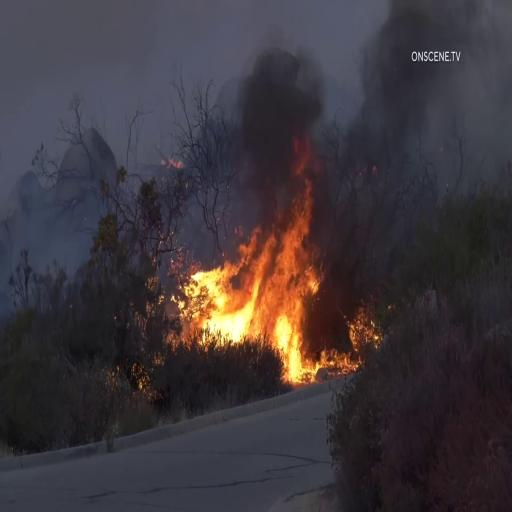fire: (178, 188, 319, 342)
